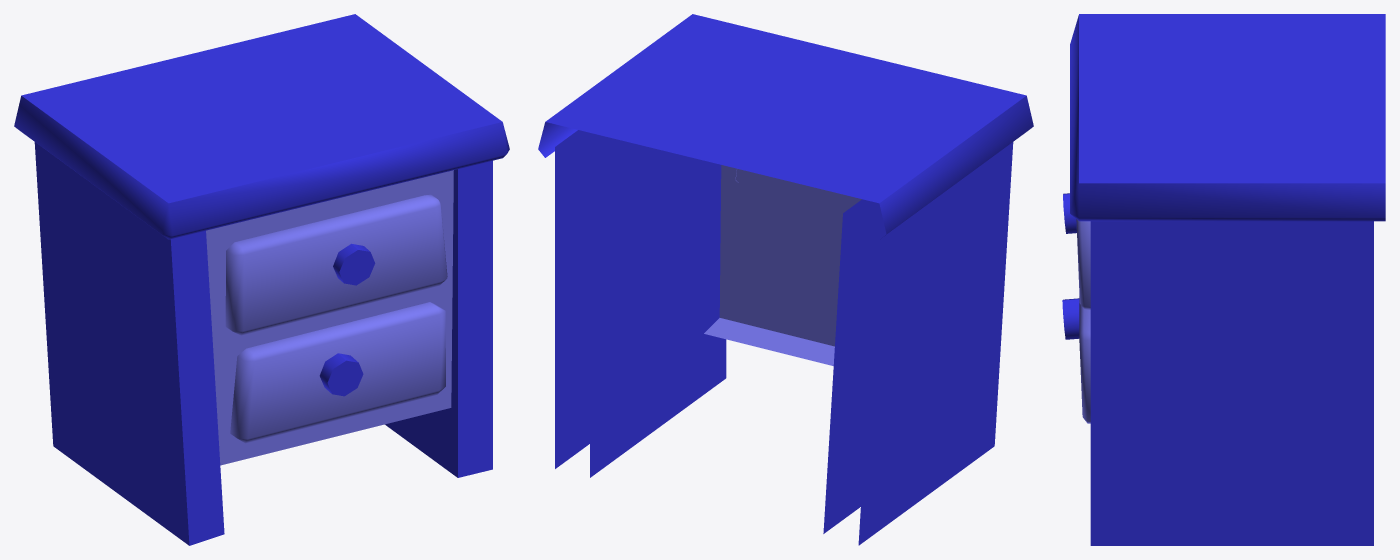
Rendered from bedsideTable.fbx.
3 views of the same model, side by side, from view 1: azimuth 30°, elevation 25°; view 2: azimuth 150°, elevation 25°; view 3: azimuth 270°, elevation 25° (orthographic). The views are drawn at different scales.
Visible parts, largest first — view 1: bedsideTable; view 2: bedsideTable; view 3: bedsideTable.
Boxes of the visible parts, x1,y1,x2,y2 form: bedsideTable: [14, 14, 509, 545]; bedsideTable: [538, 14, 1033, 545]; bedsideTable: [1062, 14, 1385, 545].
Bounding box in the file's own units: 2.89 × 2.8 × 2.23.
